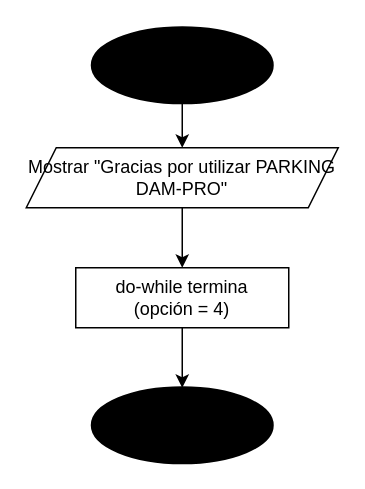
Image size: 365x489. Some labels were removed from this diagram. Here are the shapes that lost their labels. From the top down, the box of each, then its label:
(90, 26, 273, 104): OPCIÓN 4
(90, 386, 273, 464): FIN
